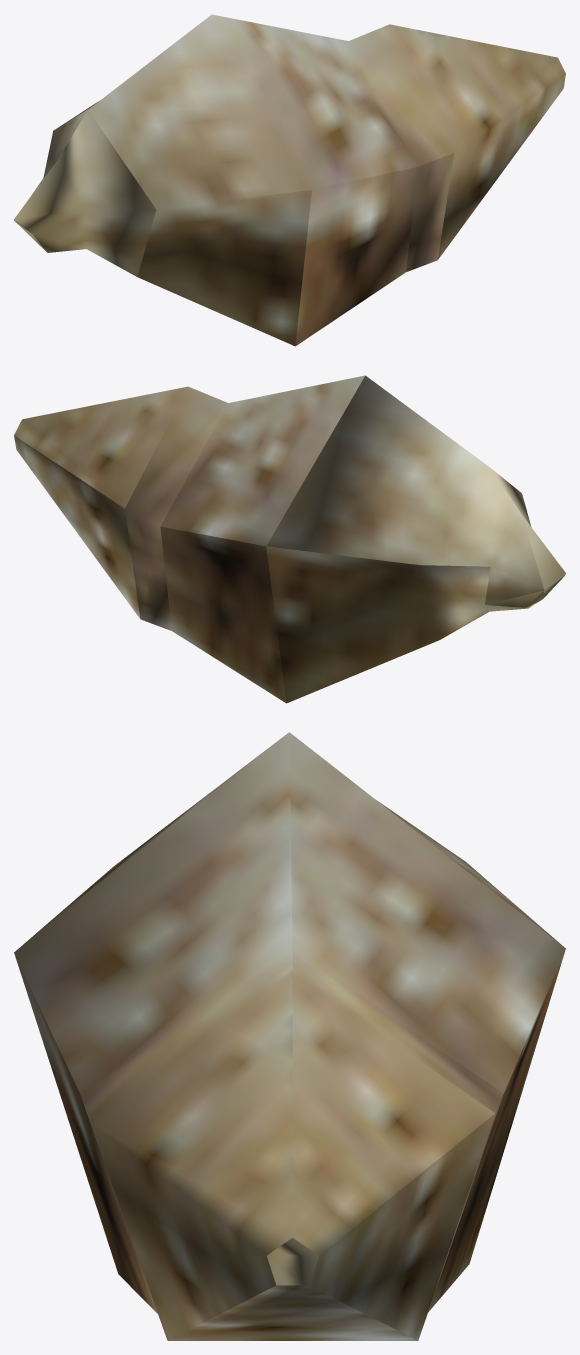
Rendered from SMSH_Shell_15.FBX.
3 views of the same model, one above another, from view 1: azimuth 30°, elevation 25°; view 2: azimuth 150°, elevation 25°; view 3: azimuth 270°, elevation 25° (orthographic). The views are drawn at different scales.
Parts seen in each view (by area): view 1: Ytlds_Shell_15; view 2: Ytlds_Shell_15; view 3: Ytlds_Shell_15.
Part boxes in pixels (<box>): Ytlds_Shell_15: <box>14,14,565,346</box>; Ytlds_Shell_15: <box>14,375,565,703</box>; Ytlds_Shell_15: <box>14,732,565,1340</box>.
Bounding box in the file's own units: 16.59 × 8.76 × 8.52.
